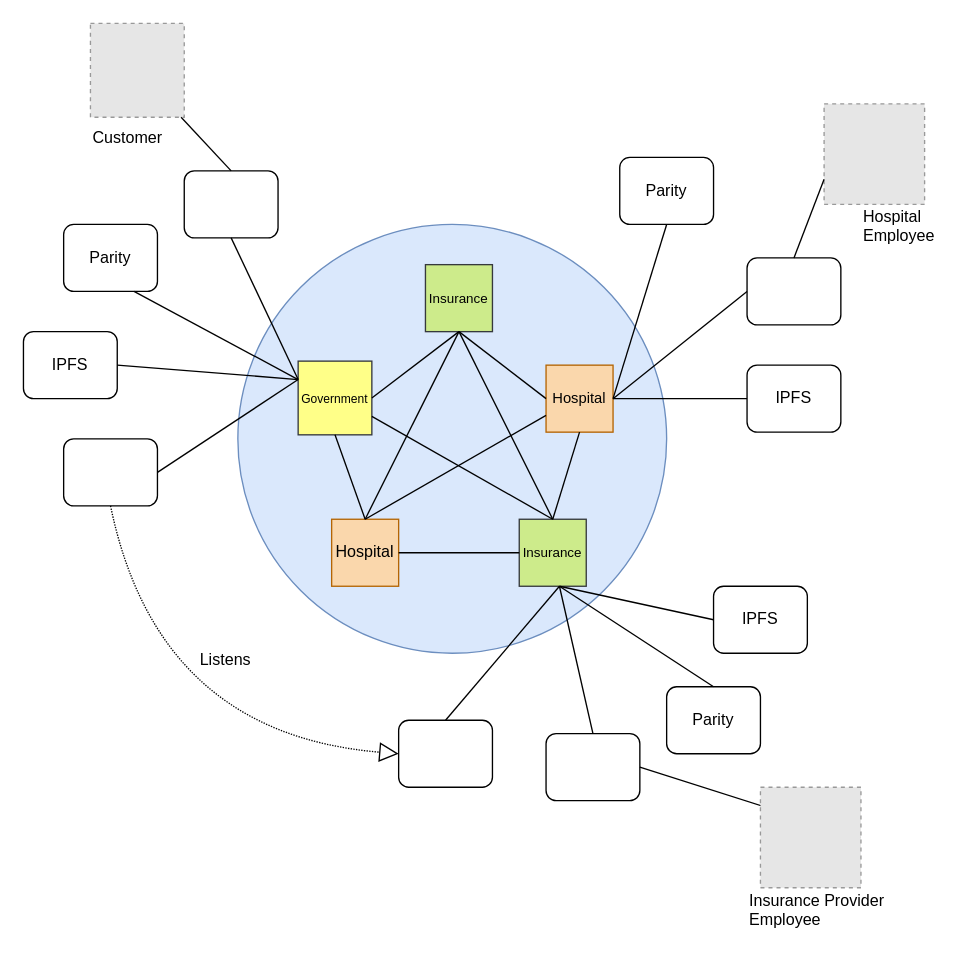
The diagram is 978 pixels wide and 954 high, and some of its shapes have lost their labels. Grey dashed boxes stand in for pictures. The centre of each missing label's shape, as x and y in pixels:
"Hospital DApp" belongs at (x=793, y=291).
"Insurance DApp" belongs at (x=592, y=766).
"MongoDB Scheduler" belongs at (x=444, y=753).
"MySQL Database" belongs at (x=109, y=472).
"User DApp" belongs at (x=230, y=204).
